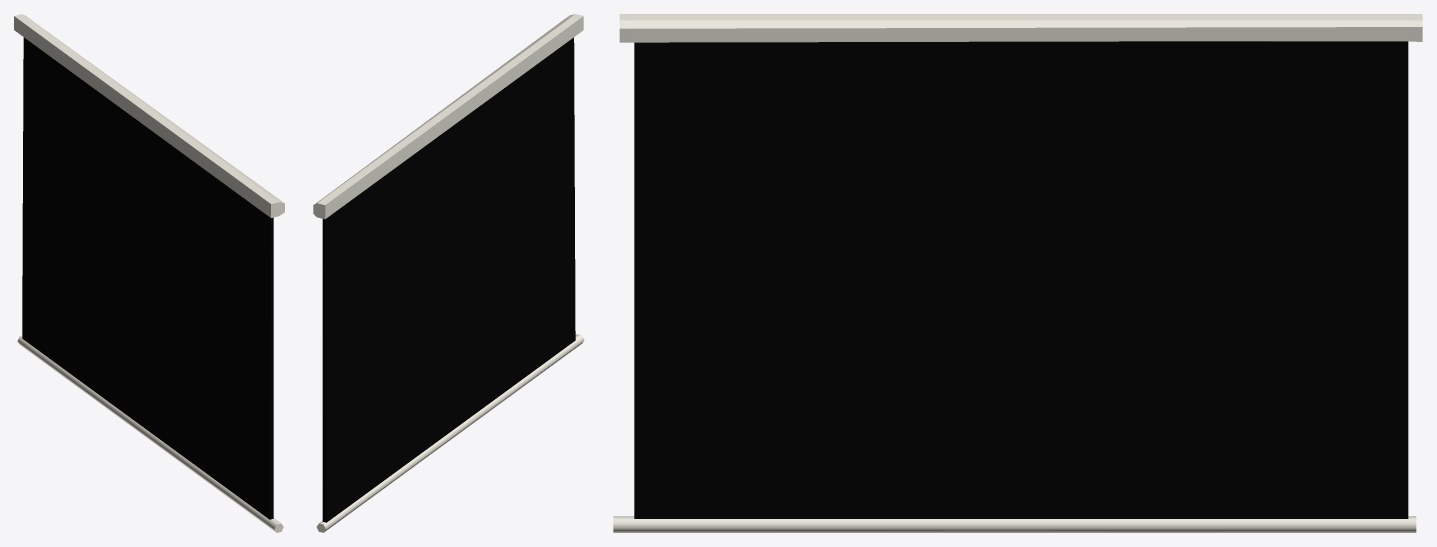
File: Projector.fbx
3 renders of one model, left to right at view 1: azimuth 30°, elevation 25°; view 2: azimuth 150°, elevation 25°; view 3: azimuth 270°, elevation 25°, orthographic. The views are drawn at different scales.
Parts seen in each view (by area): view 1: pCube1, pCylinder1; view 2: pCube1, pCylinder1; view 3: pCube1, pCylinder1.
Part boxes in pixels (box(x1,y1,x2,y2)): pCube1: box(14, 14, 284, 519); pCylinder1: box(17, 336, 283, 532); pCube1: box(313, 14, 583, 522); pCylinder1: box(316, 334, 584, 532); pCube1: box(619, 14, 1422, 518); pCylinder1: box(613, 516, 1416, 532).
Size of the model in its own units: 0.8967 by 20.23 by 28.95.
1 material, 1 textured.
